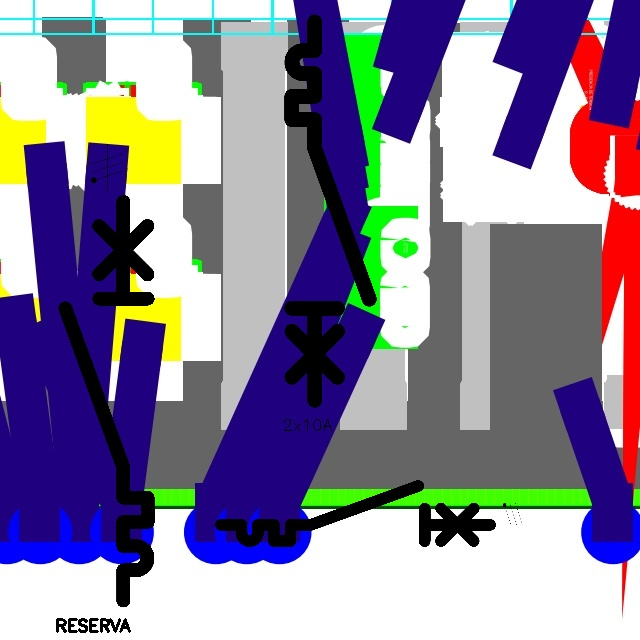interruptor_termomagnetico: (55, 191, 158, 610), (282, 12, 379, 409), (214, 479, 497, 548)
